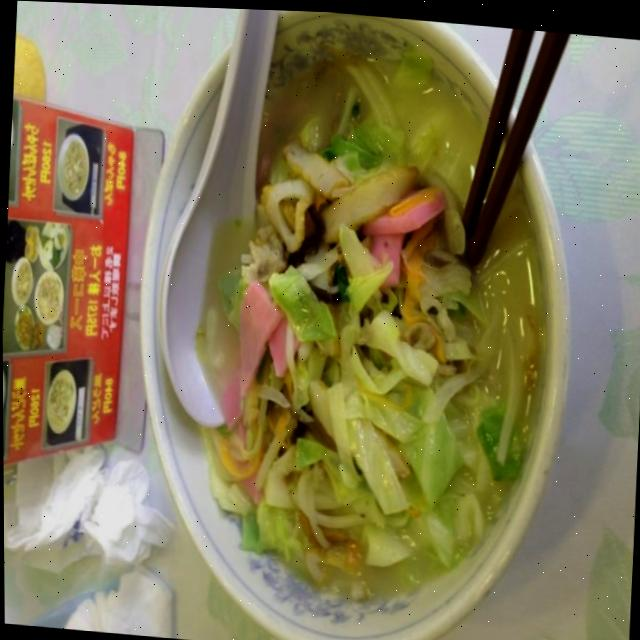熟制海鲜: (0, 0, 608, 637)
